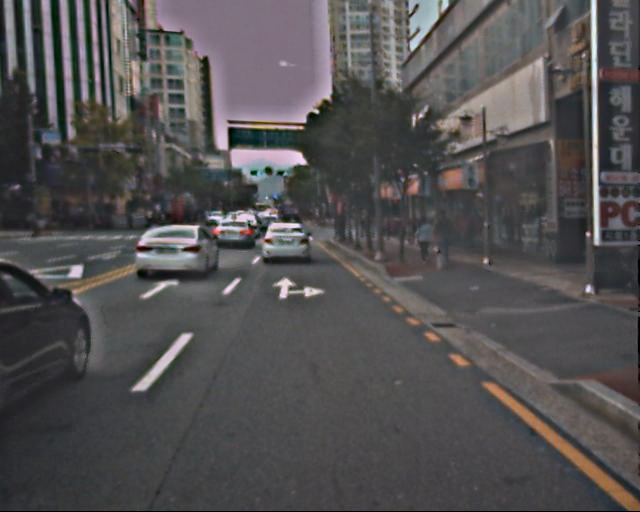person: (432, 209, 455, 264), (415, 215, 435, 264)
